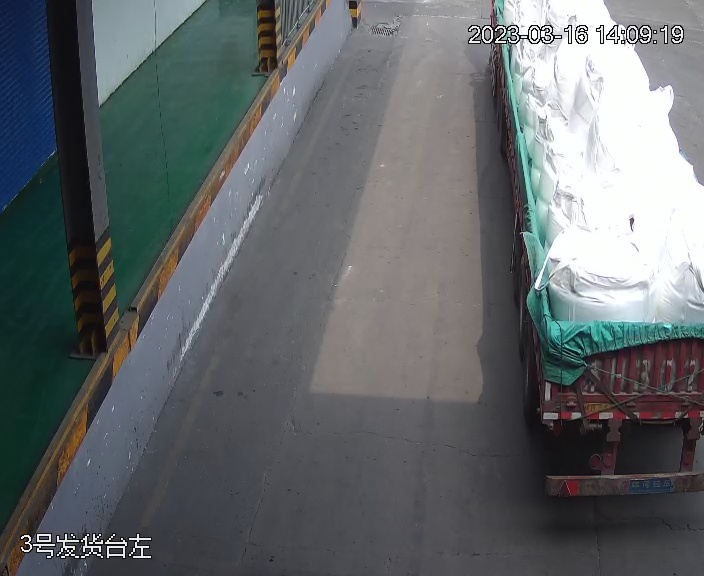truck: (485, 1, 704, 495)
